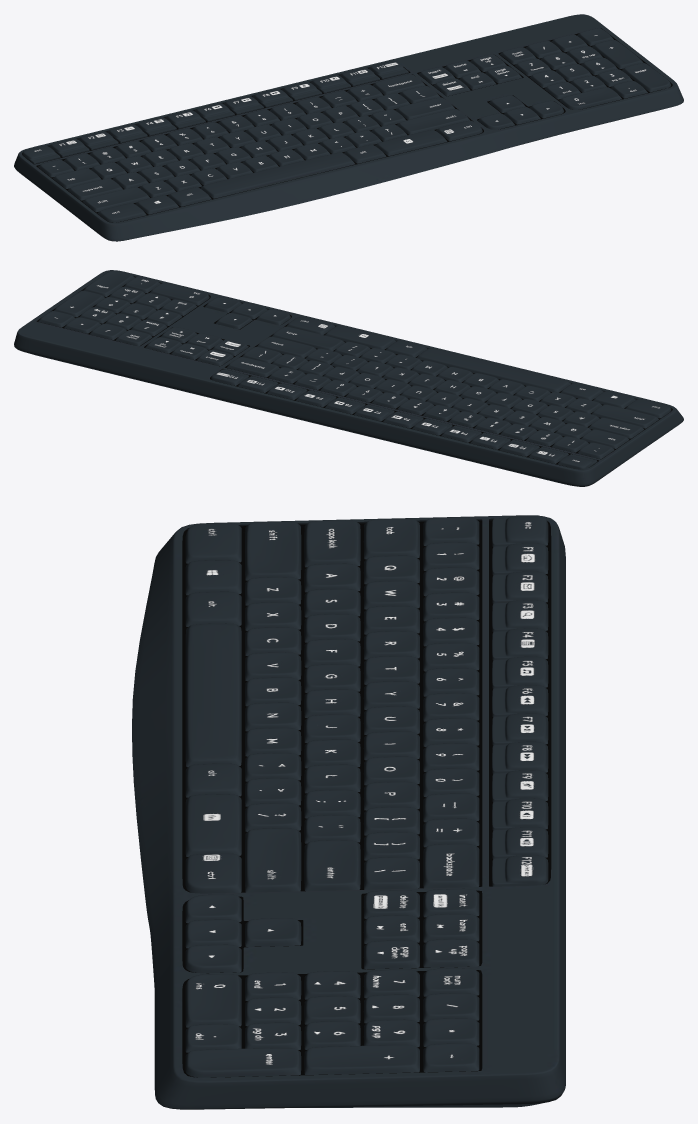
Rendered from keyboard4.glb.
3 views of the same model, one above another, from view 1: azimuth 30°, elevation 25°; view 2: azimuth 150°, elevation 25°; view 3: azimuth 270°, elevation 25° (orthographic). The views are drawn at different scales.
Visible parts, largest first — view 1: Luca3D_Logitech_MK235_0; view 2: Luca3D_Logitech_MK235_0; view 3: Luca3D_Logitech_MK235_0.
Part boxes in pixels (x1,y1,x2,y2): Luca3D_Logitech_MK235_0: (14, 14, 683, 241); Luca3D_Logitech_MK235_0: (14, 270, 683, 486); Luca3D_Logitech_MK235_0: (132, 515, 565, 1109).
Size of the model in its own units: 0.427 by 0.0164 by 0.1388.
Materials: 1 (1 with a texture image).
